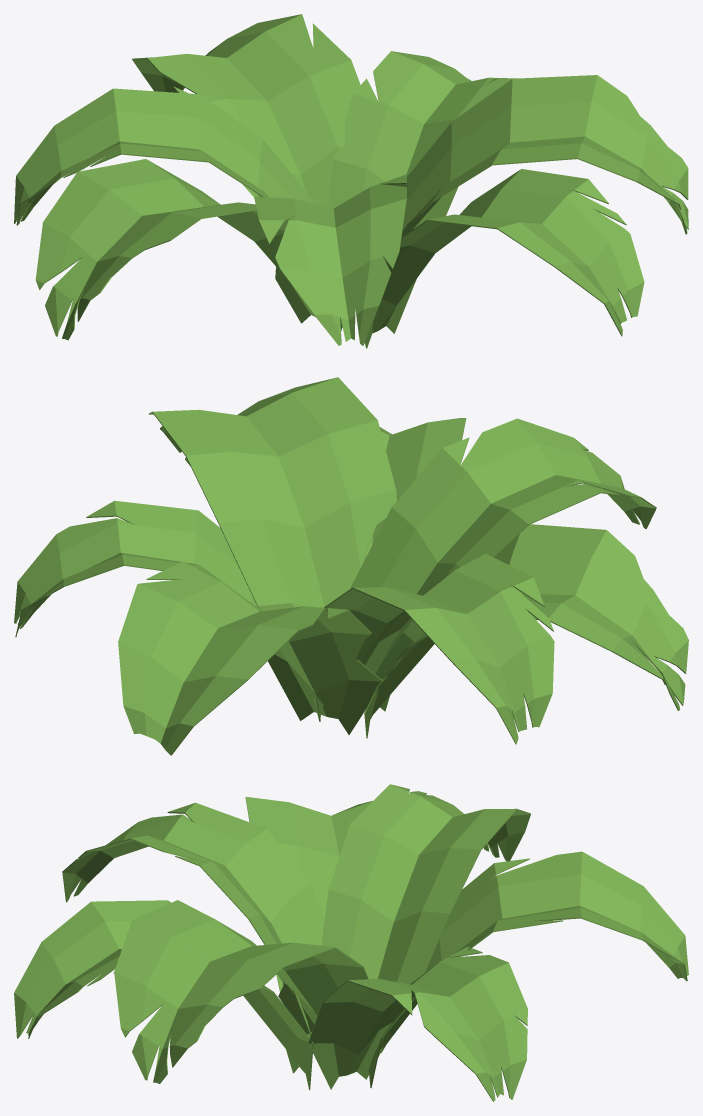
The model's file is foliage1.fbx.
3 views of the same model, one above another, from view 1: azimuth 30°, elevation 25°; view 2: azimuth 150°, elevation 25°; view 3: azimuth 270°, elevation 25° (orthographic). The views are drawn at different scales.
Parts seen in each view (by area): view 1: folioge1; view 2: folioge1; view 3: folioge1.
Boxes of the visible parts, bbox=[...] form: folioge1: bbox=[14, 14, 688, 348]; folioge1: bbox=[14, 377, 688, 755]; folioge1: bbox=[14, 784, 688, 1101].
Bounding box in the file's own units: 1.81 × 0.6822 × 1.95.
